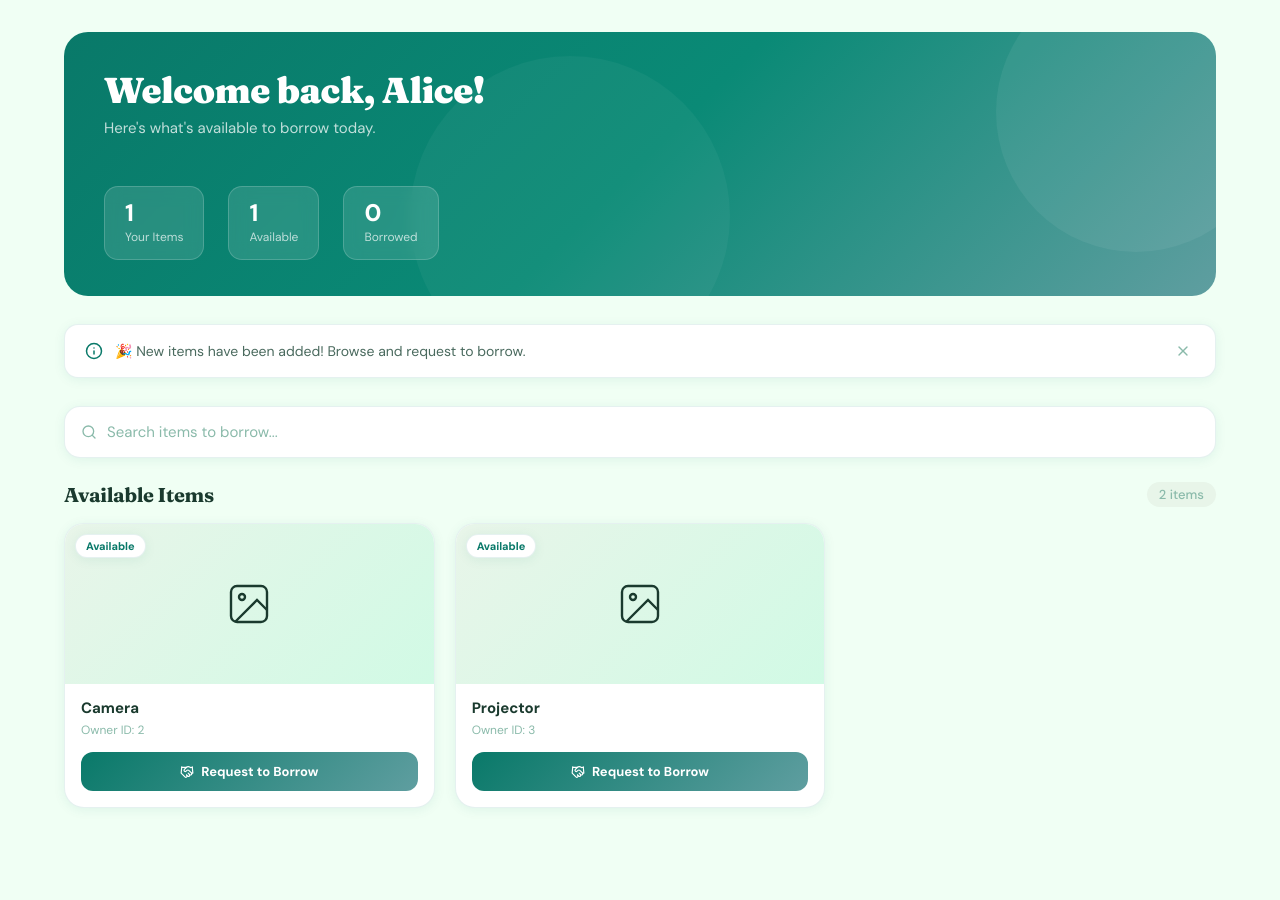
HomePage › filters items when user types in search
Expected: the text "Camera" is shown, [81,698,139,718]
Type "camera" into the field with placeholder "Search items to borrow..." at (653, 432), box [107,422,1199,442]
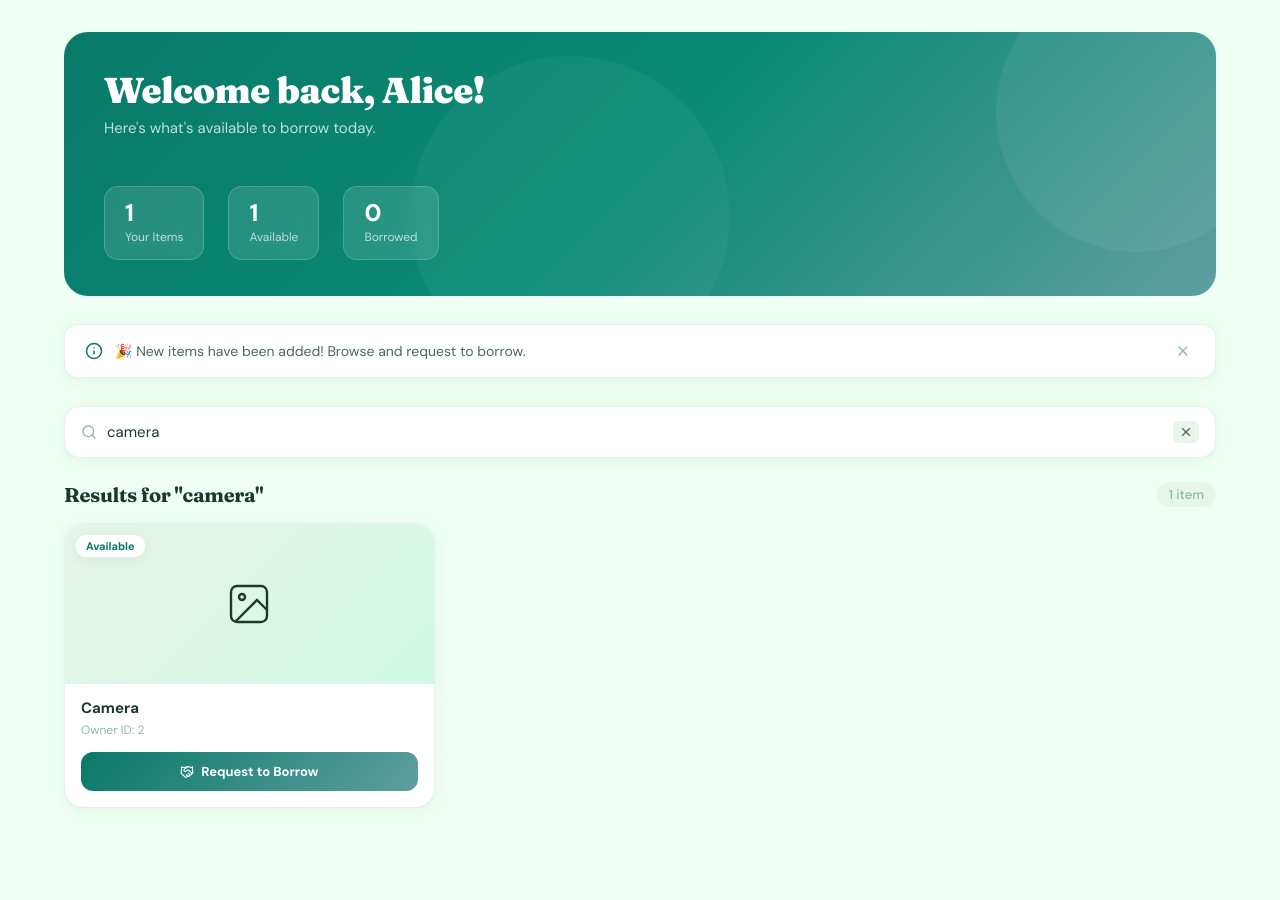
Expected: the text "Camera" is shown, [81,698,139,718]
Now the text "Projector" is gone
